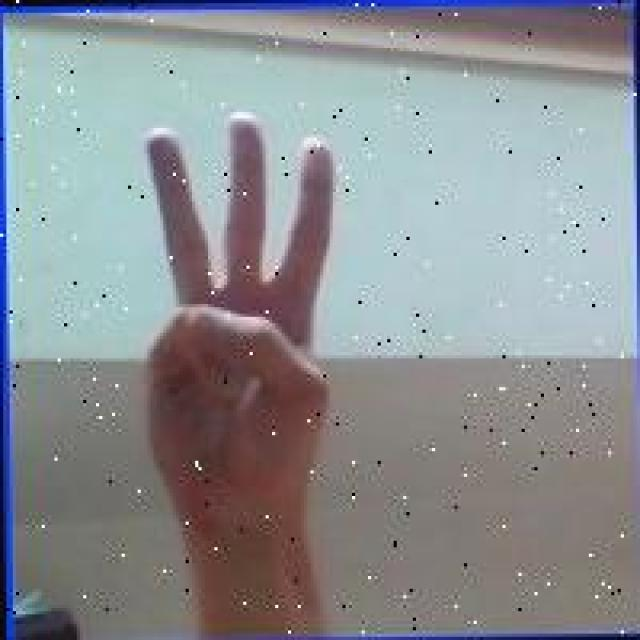W: (115, 104, 349, 552)
